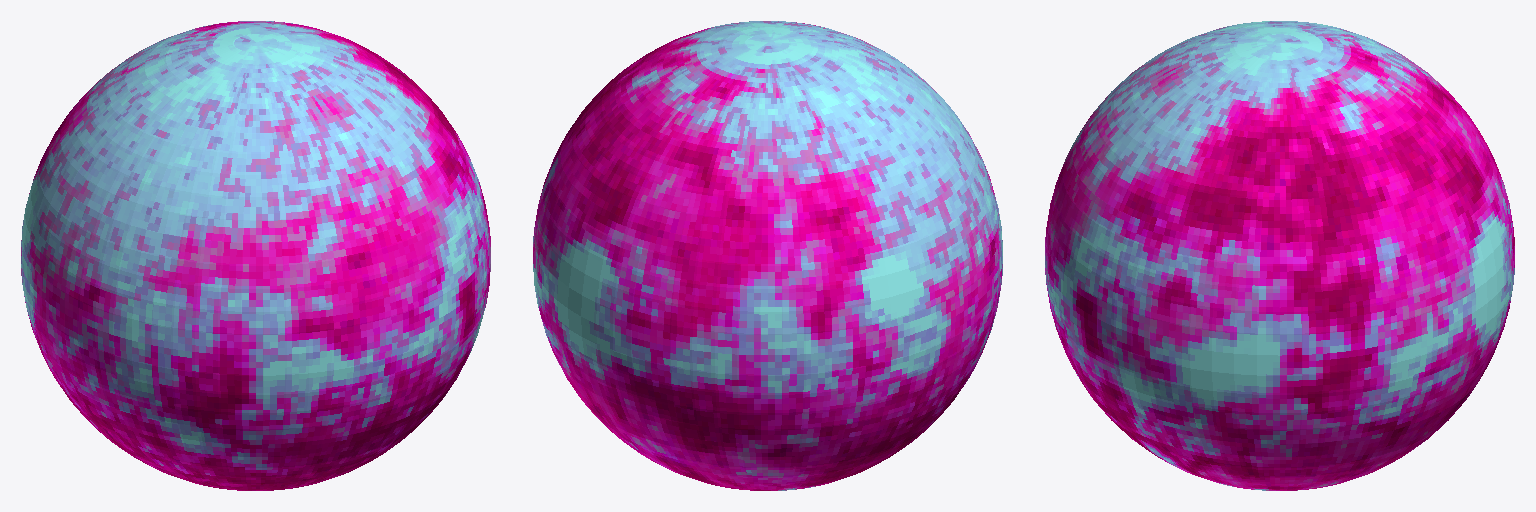
3 views of the same model, side by side, from view 1: azimuth 30°, elevation 25°; view 2: azimuth 150°, elevation 25°; view 3: azimuth 270°, elevation 25° (orthographic).
Parts seen in each view (by area): view 1: Sphere; view 2: Sphere; view 3: Sphere.
Part boxes in pixels (left/top/right/bottom): Sphere: left=21, top=21, right=490, bottom=490; Sphere: left=533, top=21, right=1002, bottom=490; Sphere: left=1045, top=21, right=1514, bottom=490.
Size of the model in its own units: 2 by 2 by 2.
1 materials, 1 textured.